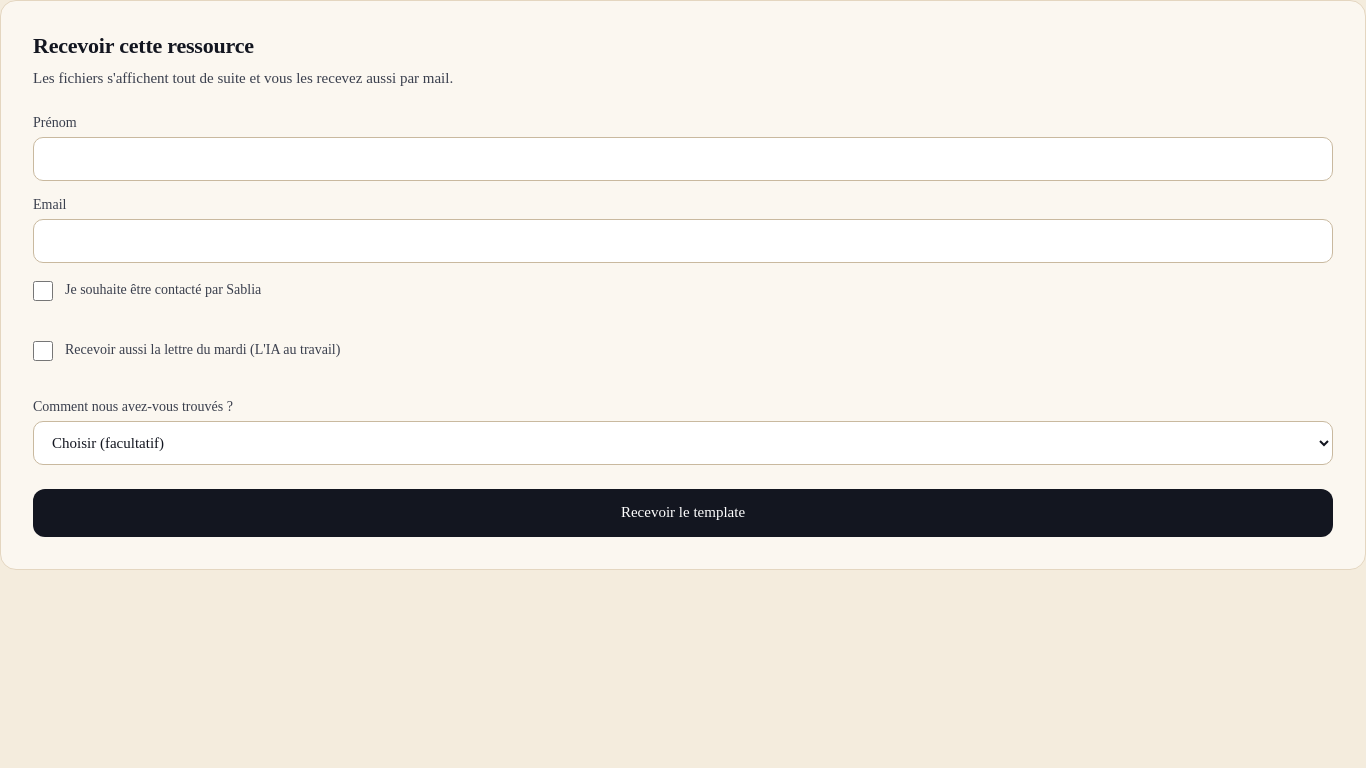
Test: RessourceForm: the optional phone › makes no contact promise when the box stayed unticked
Type "Camille" into the field labelled "Prénom".
click(683, 159); type("Camille")  # box [33,137,1333,181]
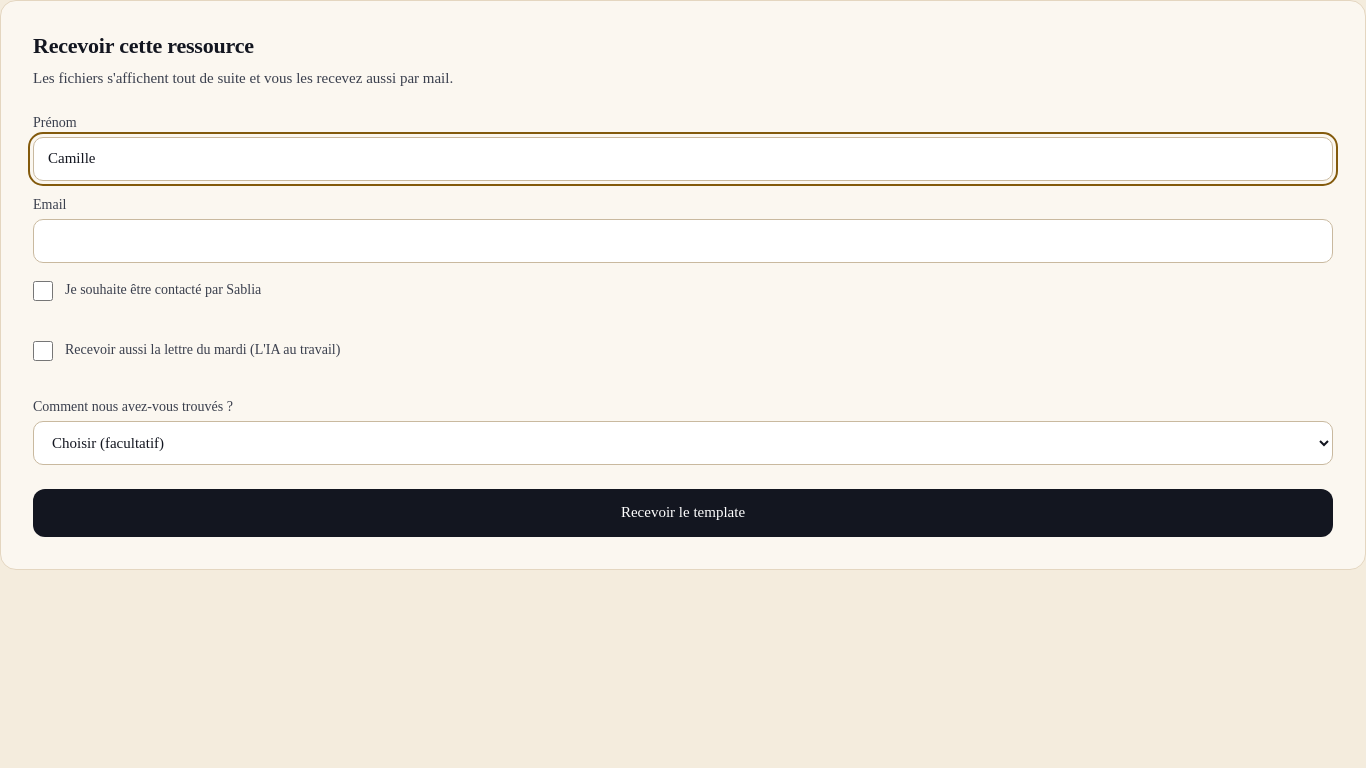
Type "camille@exemple.fr" into the field labelled "Email".
click(683, 241); type("camille@exemple.fr")  # box [33,219,1333,263]
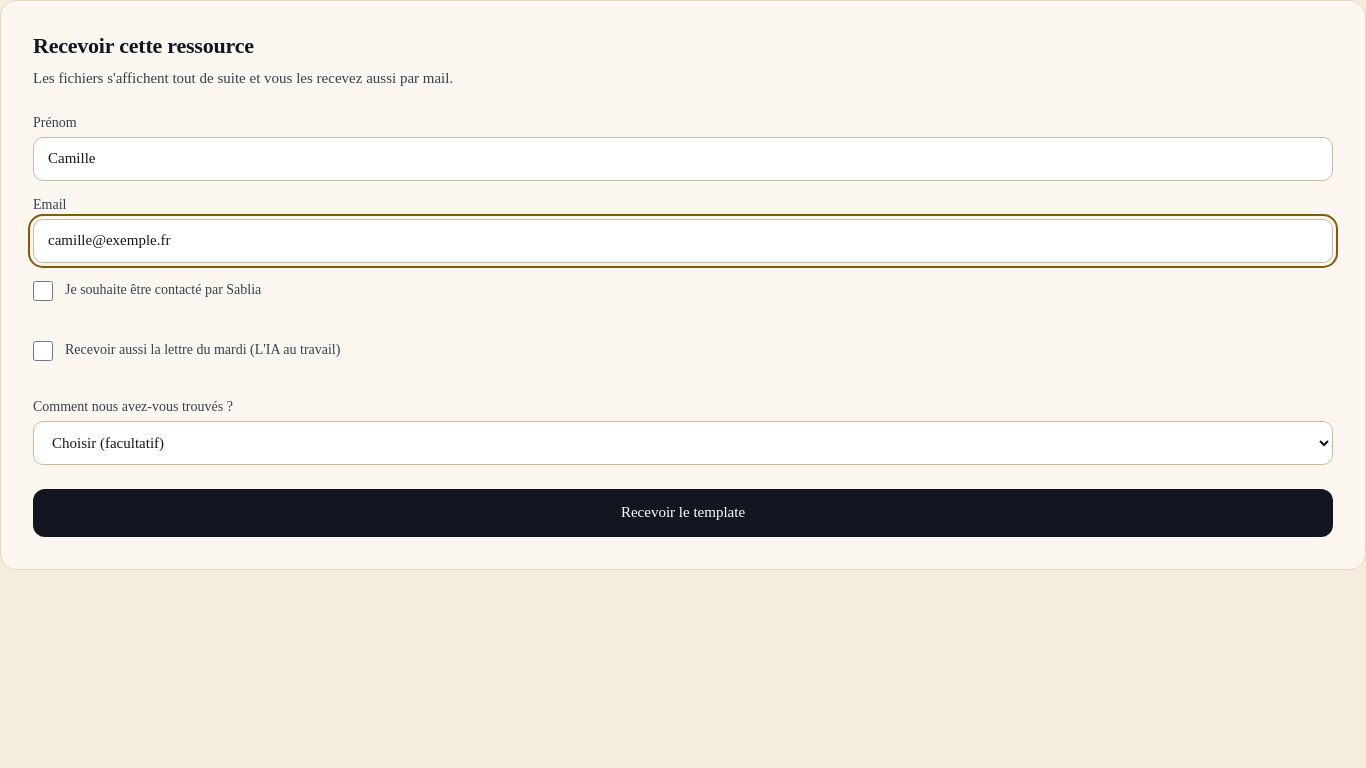
Click the button "Recevoir le template".
click(683, 513)  # box [33,489,1333,537]
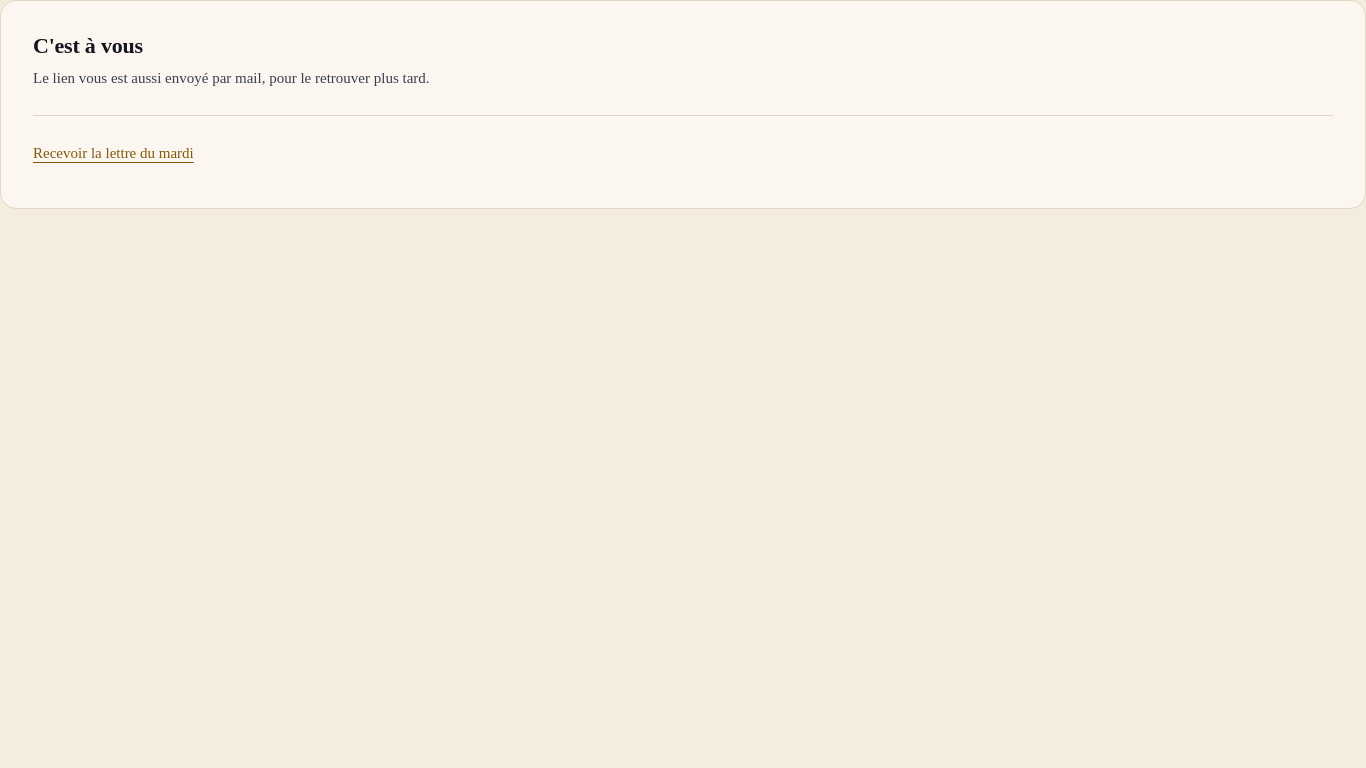
expect the heading "C'est à vous" is shown: met, box [33,33,143,58]
